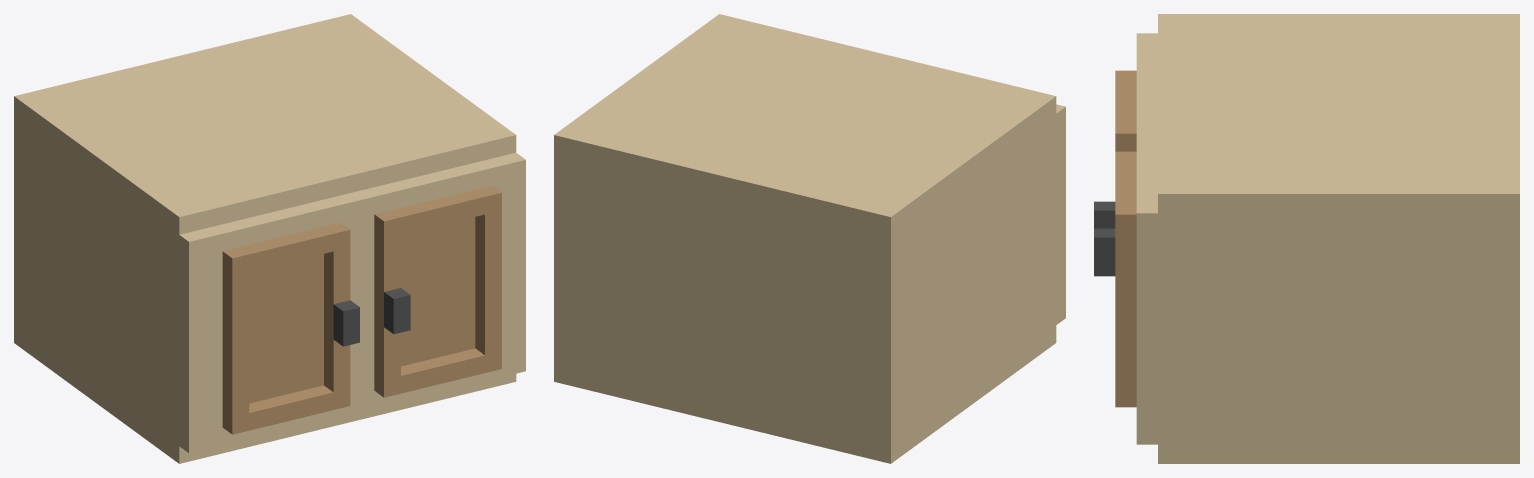
File: Kitchen_TableV3.obj
The picture shows the model from 3 angles, left to right: view 1: azimuth 30°, elevation 25°; view 2: azimuth 150°, elevation 25°; view 3: azimuth 270°, elevation 25°; orthographic projection. The views are drawn at different scales.
Size of the model in its own units: 2 by 1.4 by 2.
1 material, 1 textured.
